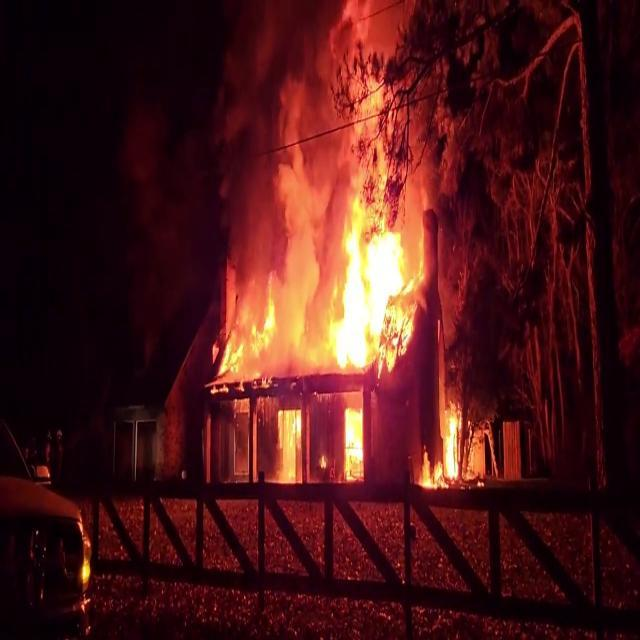Fire: (213, 69, 422, 426), (325, 204, 419, 376), (419, 392, 466, 494)
